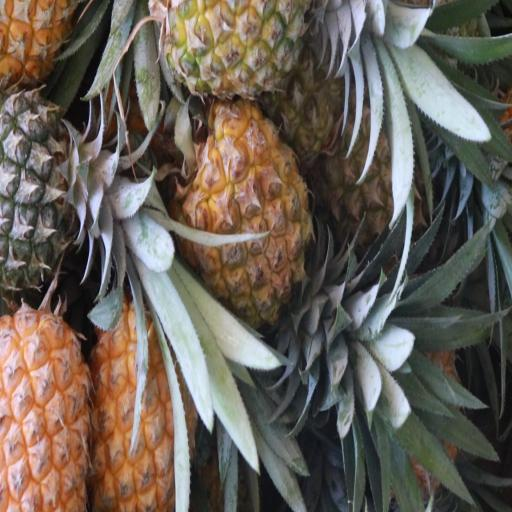------------------------------: (318, 96, 420, 261)
Pineapple - v8 v1: (186, 115, 311, 329), (87, 309, 199, 512), (0, 311, 95, 509), (156, 0, 310, 101)
